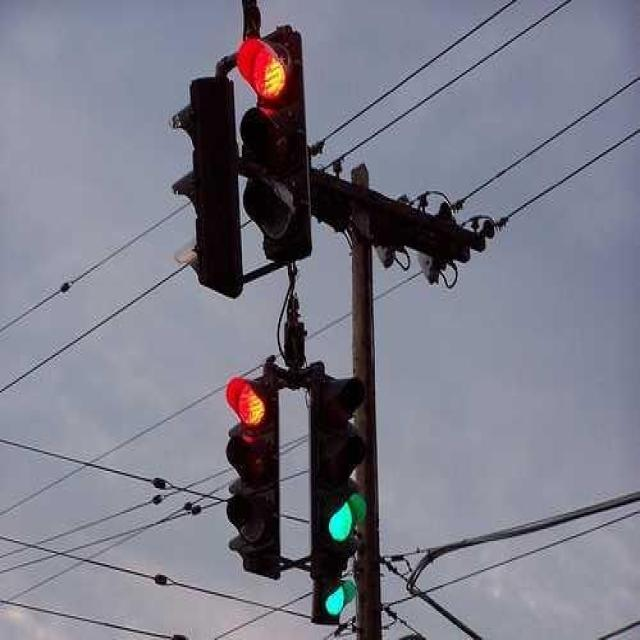Traffic Light -Green-: (312, 369, 366, 577), (305, 569, 364, 633)
Traffic Light -Red-: (232, 28, 323, 266), (220, 354, 286, 590)
